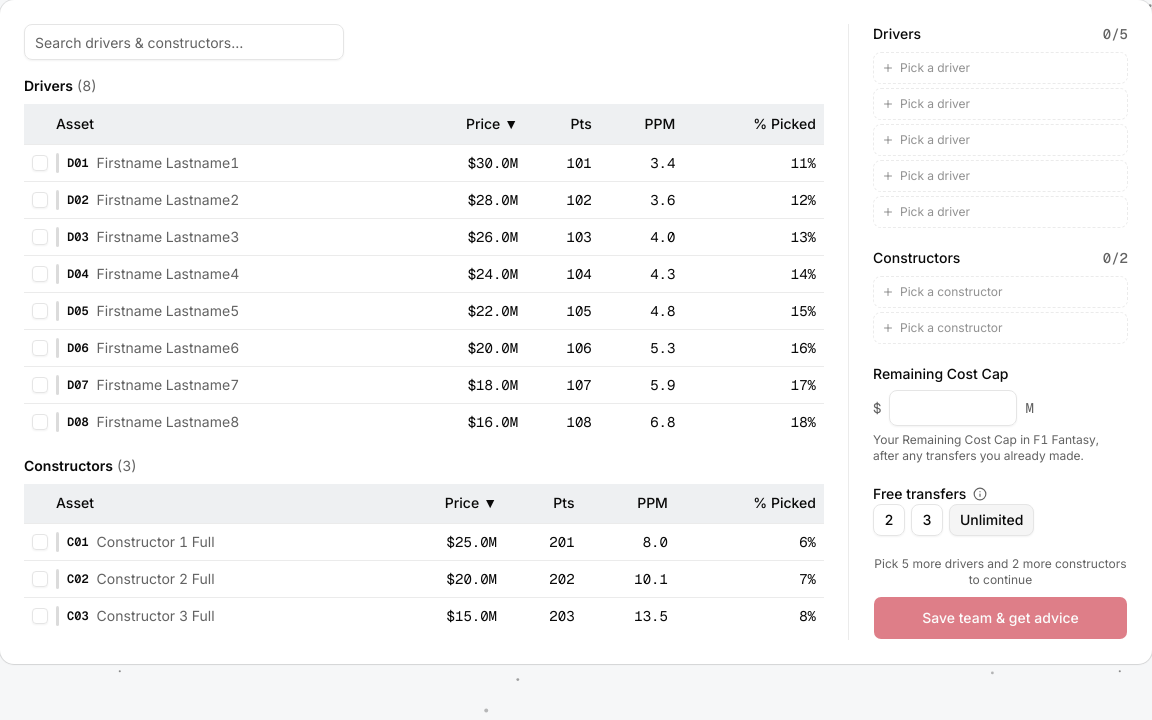
it: TeamPicker › clicking a checked checkbox deselects it (count returns)
Click the checkbox named "Select Firstname Lastname1": (40, 162) x1=32 y1=154 x2=48 y2=170
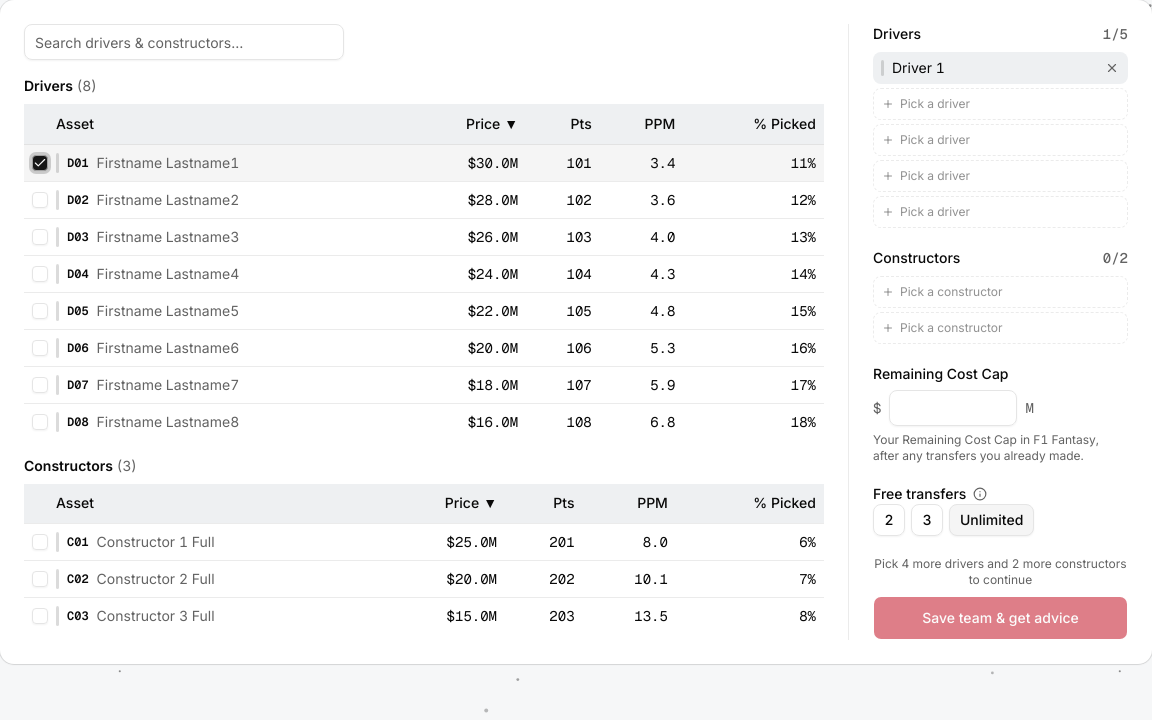
Check: the heading "Drivers 1/5" is shown, box x1=873 y1=24 x2=1128 y2=44
Click the checkbox named "Select Firstname Lastname1": (40, 162) x1=32 y1=154 x2=48 y2=170
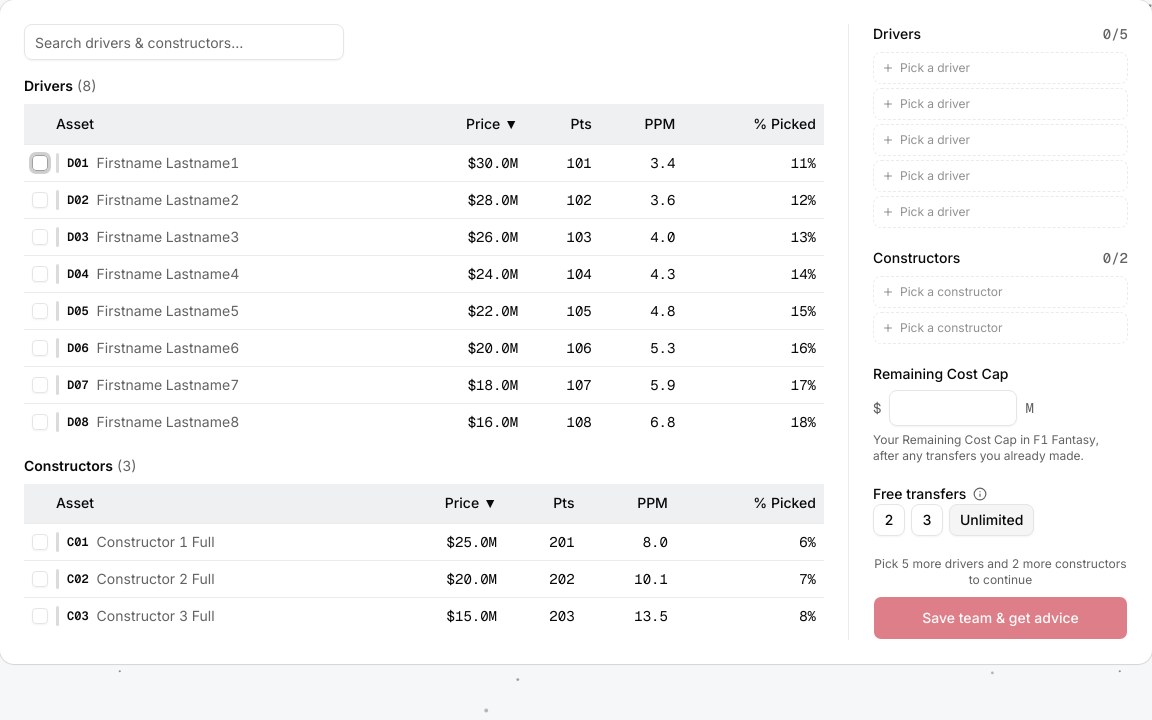
Check: the heading "Drivers 0/5" is shown, box x1=873 y1=24 x2=1128 y2=44
